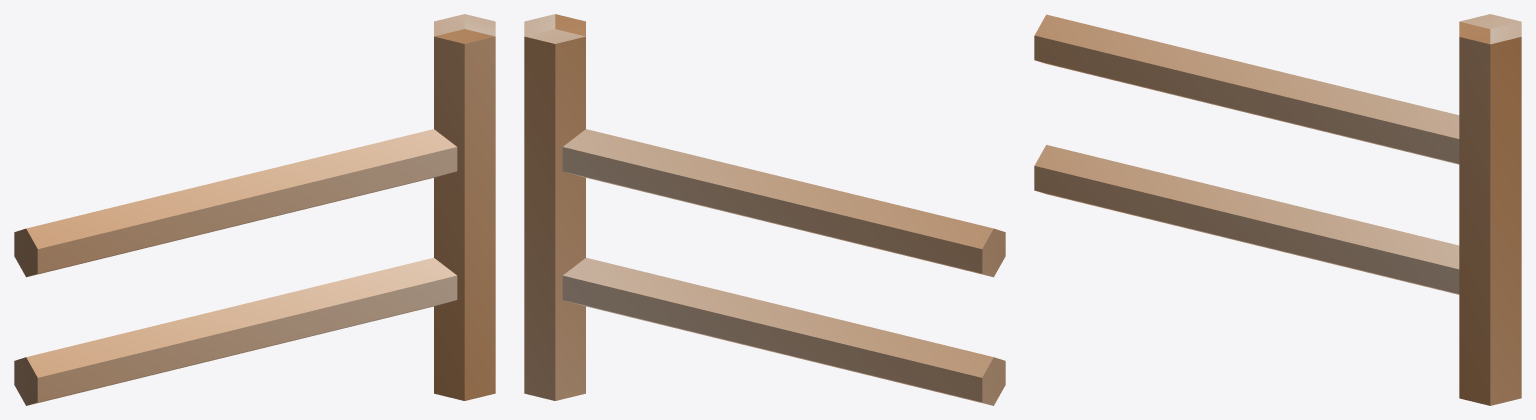
File: CercaMid.fbx
3 views of the same model, side by side, from view 1: azimuth 30°, elevation 25°; view 2: azimuth 150°, elevation 25°; view 3: azimuth 330°, elevation 25° (orthographic).
Parts seen in each view (by area): view 1: CercaMid_LOD0; view 2: CercaMid_LOD0; view 3: CercaMid_LOD0.
Boxes of the visible parts, box(x1,y1,x2,y2) form: CercaMid_LOD0: box(14, 14, 495, 405); CercaMid_LOD0: box(524, 14, 1005, 405); CercaMid_LOD0: box(1034, 14, 1521, 405).
Bounding box in the file's own units: 143 × 104 × 16.25.
